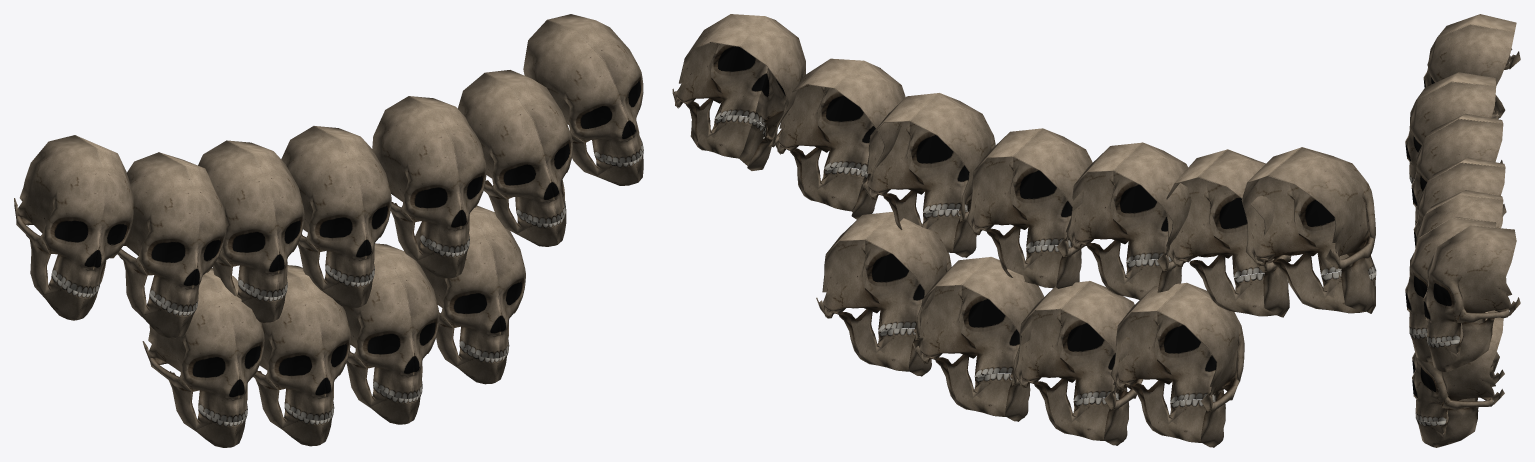
Rendered from TengkorakTakau.fbx.
3 views of the same model, side by side, from view 1: azimuth 30°, elevation 25°; view 2: azimuth 150°, elevation 25°; view 3: azimuth 270°, elevation 25° (orthographic). The views are drawn at different scales.
Parts seen in each view (by area): view 1: Tengkorak; view 2: Tengkorak; view 3: Tengkorak.
Boxes of the visible parts, x1=… form: Tengkorak: x1=14, y1=14, x2=643, y2=447; Tengkorak: x1=672, y1=14, x2=1376, y2=447; Tengkorak: x1=1405, y1=14, x2=1520, y2=447.
Bounding box in the file's own units: 67.8 × 35.31 × 13.13.
